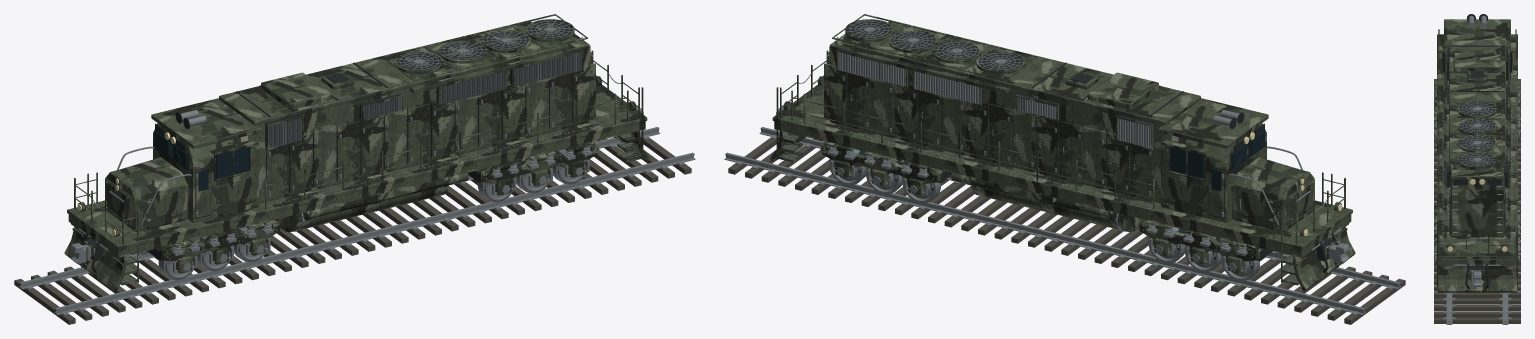
The model's file is diesel-locomotive.glb.
3 renders of one model, left to right at view 1: azimuth 30°, elevation 25°; view 2: azimuth 150°, elevation 25°; view 3: azimuth 270°, elevation 25°, orthographic. The views are drawn at different scales.
Parts seen in each view (by area): view 1: panels-and-hardware-paint-batch, display-rails-sleeper-batch, walkways-and-guards-deck-batch, long-engine-hood-trim-batch, display-rails-steel-batch, cab-and-short-nose-paint-batch, cab-and-short-nose-trim-batch, chassis-and-tanks-paint-batch, panels-and-hardware-steel-batch, long-engine-hood-paint-batch, panels-and-hardware-dark-batch, chassis-and-tanks-trim-batch (+13 smaller); view 2: panels-and-hardware-paint-batch, display-rails-sleeper-batch, walkways-and-guards-deck-batch, long-engine-hood-trim-batch, display-rails-steel-batch, cab-and-short-nose-paint-batch, cab-and-short-nose-trim-batch, chassis-and-tanks-paint-batch, panels-and-hardware-steel-batch, long-engine-hood-paint-batch, panels-and-hardware-dark-batch, chassis-and-tanks-trim-batch (+13 smaller); view 3: walkways-and-guards-deck-batch, long-engine-hood-trim-batch, long-engine-hood-paint-batch, display-rails-sleeper-batch, pilots-and-couplers-trim-batch, cab-and-short-nose-trim-batch, roof-fans-and-exhaust-steel-batch, roof-fans-and-exhaust-paint-batch, roof-fans-and-exhaust-dark-batch, roof-fans-and-exhaust-trim-batch, walkways-and-guards-trim-batch, display-rails-steel-batch (+14 smaller).
Boxes of the visible parts, x1=… form: panels-and-hardware-paint-batch: x1=105, y1=63, x2=595, y2=224; display-rails-sleeper-batch: x1=14, y1=137, x2=691, y2=324; walkways-and-guards-deck-batch: x1=67, y1=84, x2=647, y2=285; long-engine-hood-trim-batch: x1=219, y1=21, x2=568, y2=125; display-rails-steel-batch: x1=18, y1=127, x2=695, y2=315; cab-and-short-nose-paint-batch: x1=105, y1=123, x2=258, y2=231; cab-and-short-nose-trim-batch: x1=109, y1=98, x2=261, y2=228; chassis-and-tanks-paint-batch: x1=68, y1=121, x2=645, y2=257; panels-and-hardware-steel-batch: x1=106, y1=52, x2=592, y2=223; long-engine-hood-paint-batch: x1=225, y1=33, x2=590, y2=203; panels-and-hardware-dark-batch: x1=155, y1=48, x2=580, y2=192; chassis-and-tanks-trim-batch: x1=70, y1=172, x2=468, y2=257; panels-and-hardware-paint-batch: x1=824, y1=63, x2=1314, y2=224; display-rails-sleeper-batch: x1=728, y1=137, x2=1405, y2=324; walkways-and-guards-deck-batch: x1=772, y1=84, x2=1352, y2=285; long-engine-hood-trim-batch: x1=851, y1=21, x2=1200, y2=125; display-rails-steel-batch: x1=724, y1=127, x2=1401, y2=315; cab-and-short-nose-paint-batch: x1=1161, y1=123, x2=1314, y2=231; cab-and-short-nose-trim-batch: x1=1158, y1=98, x2=1310, y2=228; chassis-and-tanks-paint-batch: x1=774, y1=121, x2=1351, y2=257; panels-and-hardware-steel-batch: x1=827, y1=52, x2=1313, y2=223; long-engine-hood-paint-batch: x1=829, y1=33, x2=1194, y2=203; panels-and-hardware-dark-batch: x1=839, y1=48, x2=1264, y2=192; chassis-and-tanks-trim-batch: x1=951, y1=172, x2=1349, y2=257; walkways-and-guards-deck-batch: x1=1437, y1=52, x2=1517, y2=271; long-engine-hood-trim-batch: x1=1444, y1=40, x2=1510, y2=166; long-engine-hood-paint-batch: x1=1450, y1=163, x2=1504, y2=237; display-rails-sleeper-batch: x1=1434, y1=79, x2=1520, y2=323; pilots-and-couplers-trim-batch: x1=1437, y1=244, x2=1517, y2=292; cab-and-short-nose-trim-batch: x1=1439, y1=19, x2=1515, y2=84; roof-fans-and-exhaust-steel-batch: x1=1453, y1=15, x2=1501, y2=167; roof-fans-and-exhaust-paint-batch: x1=1451, y1=50, x2=1503, y2=169; roof-fans-and-exhaust-dark-batch: x1=1450, y1=14, x2=1504, y2=166; roof-fans-and-exhaust-trim-batch: x1=1458, y1=71, x2=1496, y2=168; walkways-and-guards-trim-batch: x1=1437, y1=29, x2=1517, y2=287; display-rails-steel-batch: x1=1443, y1=292, x2=1511, y2=324.
Size of the model in its own units: 23 by 5.34 by 3.41.
9 materials, 3 textured.
